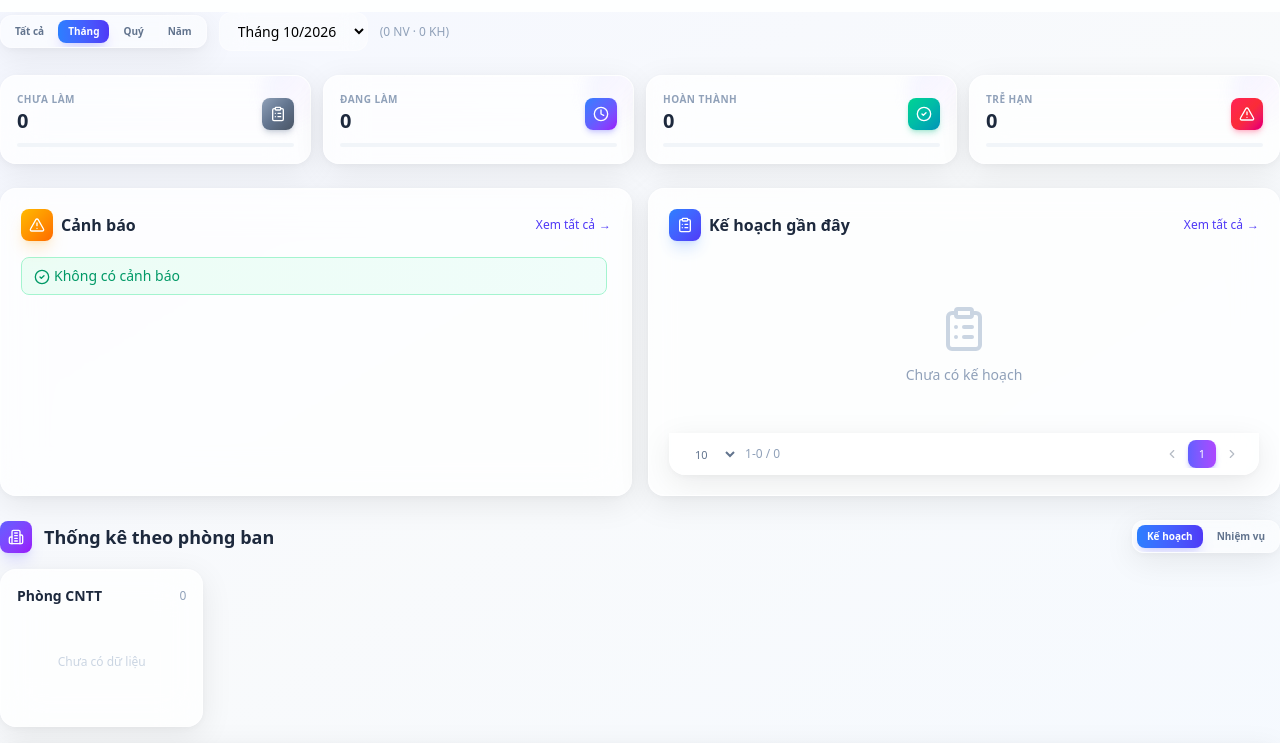
Scenario: DashboardPage › filters plans by selected period
Click the tab "Năm".
click(180, 32)  # box [158, 20, 202, 43]
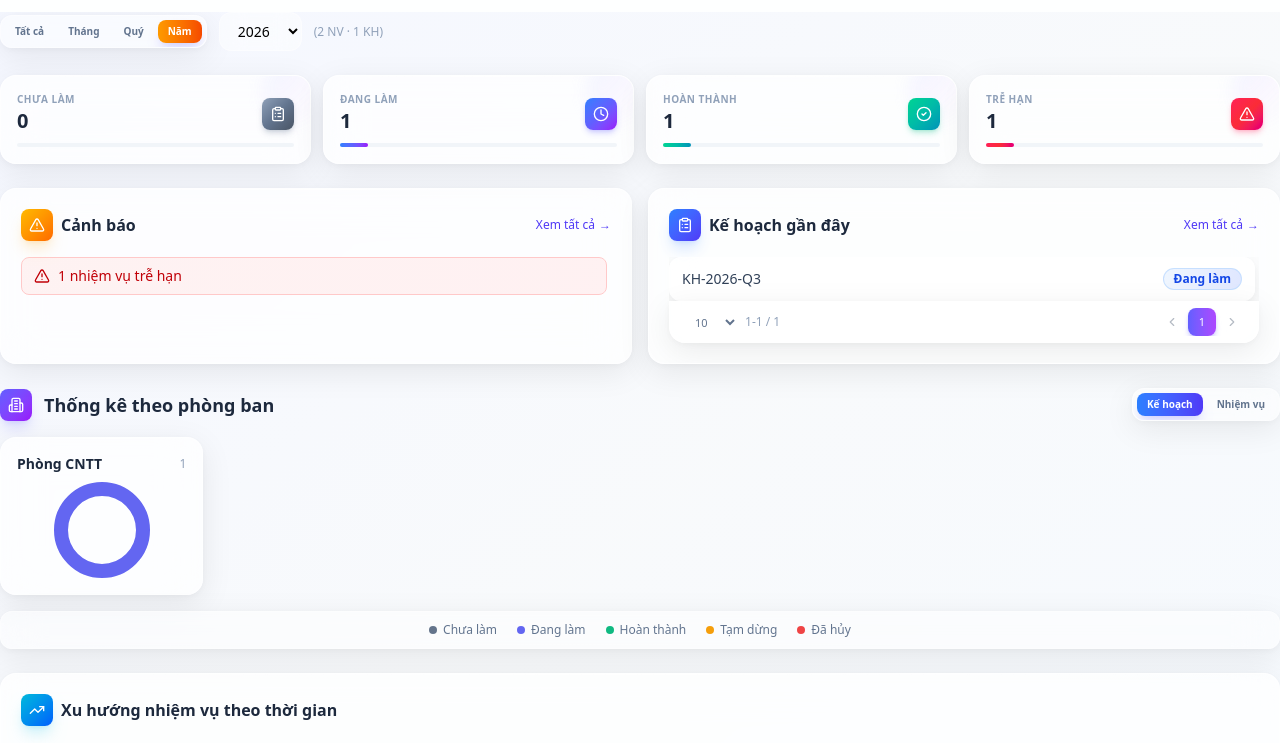
Now the text "KH-2026-Q3" is shown, box [682, 269, 761, 289]
Click the tab "Tháng".
click(84, 32)  # box [58, 20, 110, 43]
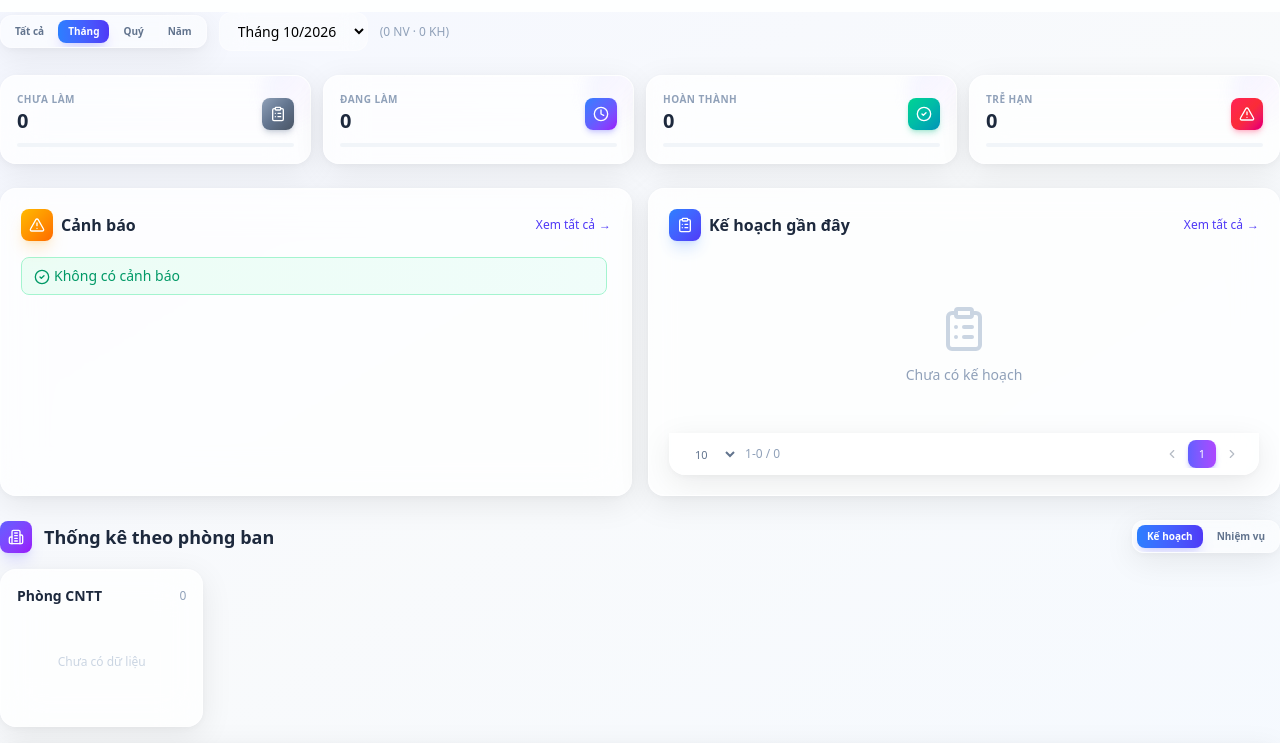
Now the text "Chưa có kế hoạch" is shown, box [906, 365, 1022, 385]
